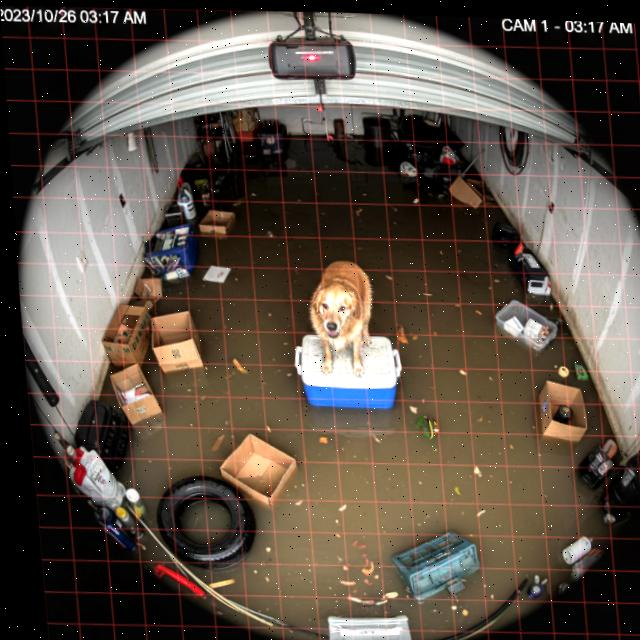dog: (290, 250, 392, 392)
